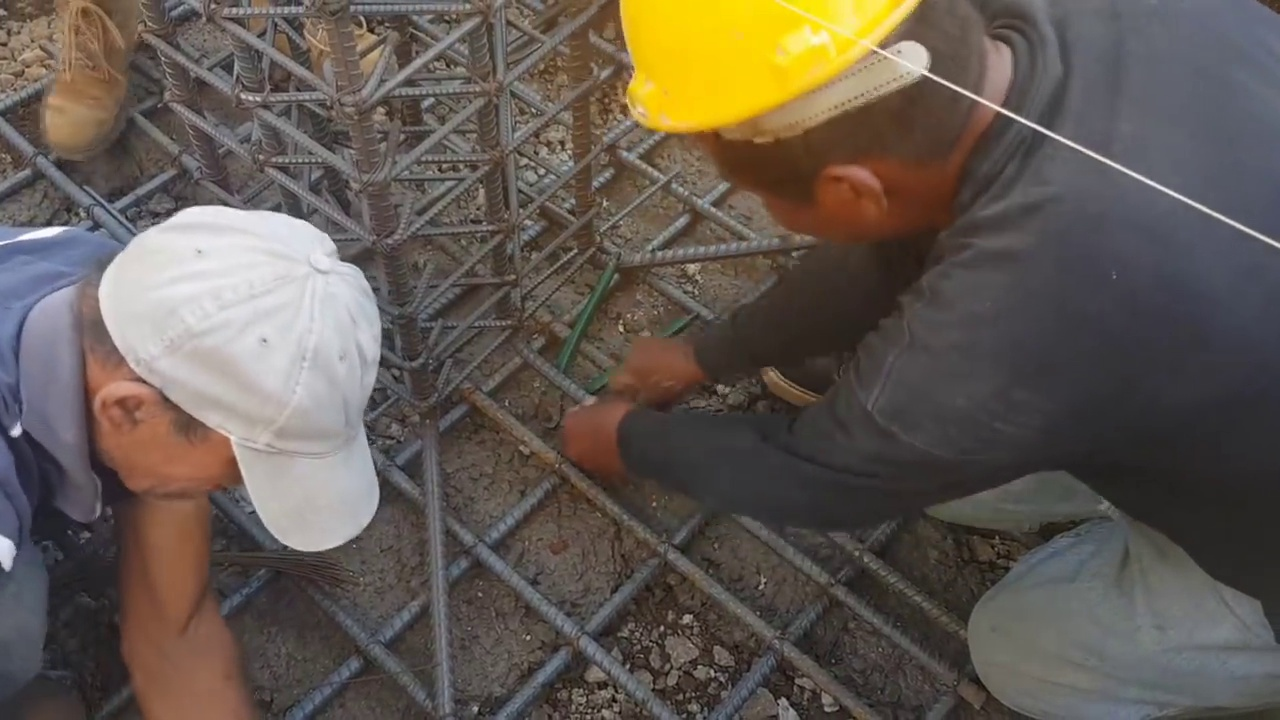helmet: (613, 3, 924, 134)
helmet-off: (74, 206, 382, 551)
helmet-on: (612, 2, 1024, 240)
person: (553, 5, 1278, 717), (1, 206, 384, 719)
